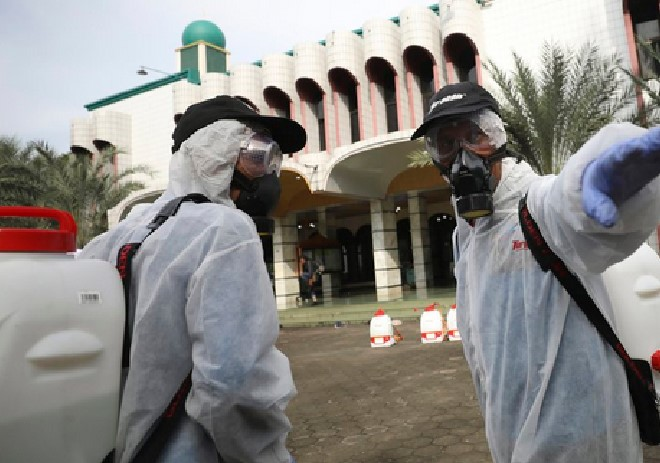face_with_mask: (174, 98, 301, 224), (415, 80, 511, 229)
